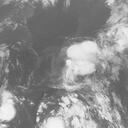cyclone: (61, 37, 111, 89)
